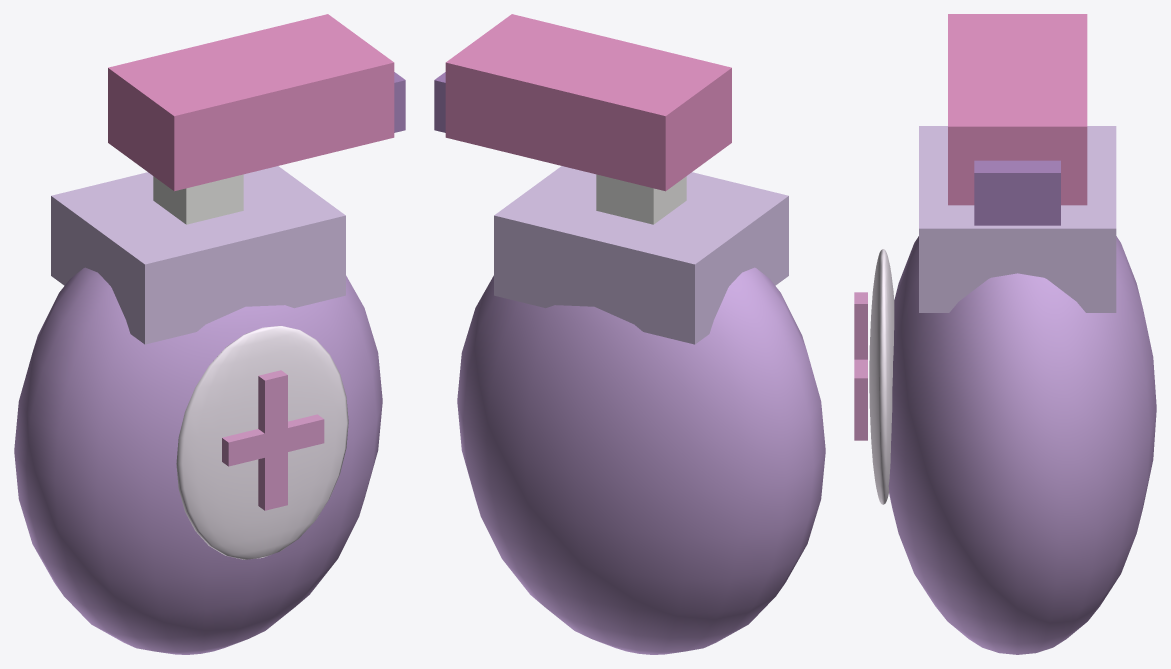
Rendered from item-potion.glb.
The picture shows the model from 3 angles, left to right: view 1: azimuth 30°, elevation 25°; view 2: azimuth 150°, elevation 25°; view 3: azimuth 270°, elevation 25°; orthographic projection. The views are drawn at different scales.
Visible parts, largest first — view 1: item-potion; view 2: item-potion; view 3: item-potion.
Part boxes in pixels (<box>): item-potion: <box>14,14,405,654</box>; item-potion: <box>434,14,825,654</box>; item-potion: <box>854,14,1156,654</box>.
Bounding box in the file's own units: 0.3965 × 0.6 × 0.2759.
